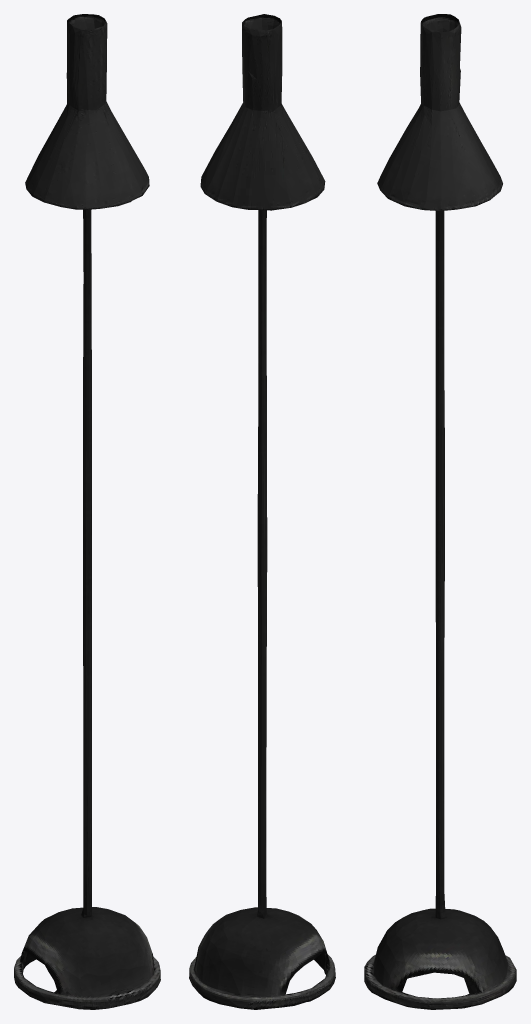
3 views of the same model, side by side, from view 1: azimuth 30°, elevation 25°; view 2: azimuth 150°, elevation 25°; view 3: azimuth 270°, elevation 25° (orthographic).
Parts seen in each view (by area): view 1: world; view 2: world; view 3: world.
Boxes of the visible parts, <box> form: world: <box>14,14,160,1009</box>; world: <box>189,14,335,1009</box>; world: <box>364,14,516,1009</box>.
Bounding box in the file's own units: 0.1381 × 0.999 × 0.144.
Materials: 1 (1 with a texture image).
